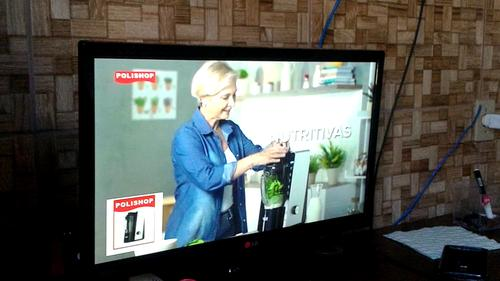Polishop #1: (104, 192, 163, 258)
